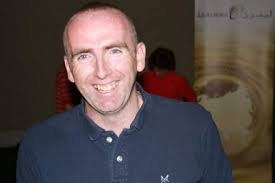middle_eastern_male: (68, 12, 138, 114)
